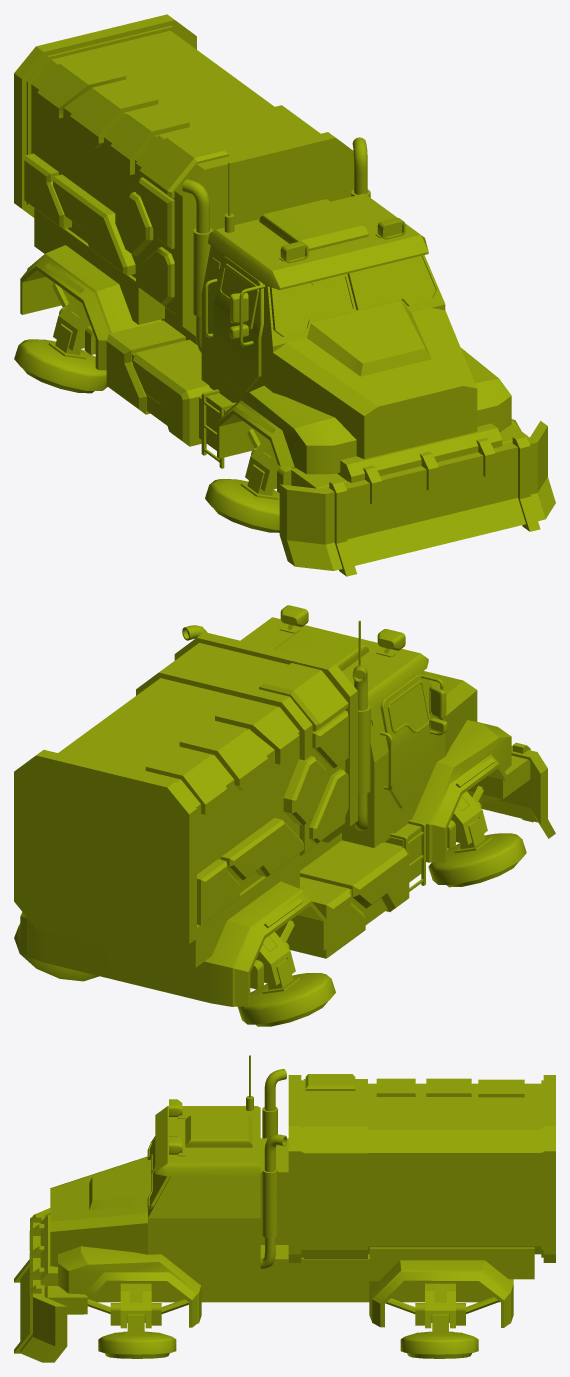
The model's file is SM_Obstacle_Truck_Indestructible.fbx.
3 renders of one model, top to bottom at view 1: azimuth 30°, elevation 25°; view 2: azimuth 150°, elevation 25°; view 3: azimuth 270°, elevation 25°, orthographic. The views are drawn at different scales.
Visible parts, largest first — view 1: SM_Armored_Backside_low, SM_Front_low, SM_Bottom_low, SM_Armor_Front_low, SM_Wheels_low; view 2: SM_Armored_Backside_low, SM_Bottom_low, SM_Front_low, SM_Wheels_low, SM_Armor_Front_low; view 3: SM_Armored_Backside_low, SM_Front_low, SM_Bottom_low, SM_Wheels_low, SM_Armor_Front_low.
Part boxes in pixels (<box>): SM_Armored_Backside_low: <box>14,14,353,336</box>; SM_Front_low: <box>182,137,477,459</box>; SM_Bottom_low: <box>20,208,528,488</box>; SM_Armor_Front_low: <box>279,421,555,576</box>; SM_Wheels_low: <box>14,283,521,532</box>; SM_Armored_Backside_low: <box>14,632,357,960</box>; SM_Bottom_low: <box>20,720,530,1006</box>; SM_Front_low: <box>182,605,477,847</box>; SM_Wheels_low: <box>14,786,526,1026</box>; SM_Armor_Front_low: <box>479,742,555,838</box>; SM_Armored_Backside_low: <box>288,1074,555,1262</box>; SM_Front_low: <box>50,1055,288,1287</box>; SM_Bottom_low: <box>40,1215,534,1327</box>; SM_Wheels_low: <box>87,1283,499,1358</box>; SM_Armor_Front_low: <box>14,1208,67,1362</box>.
Bounding box in the file's own units: 4.55 × 4.28 × 8.74.
